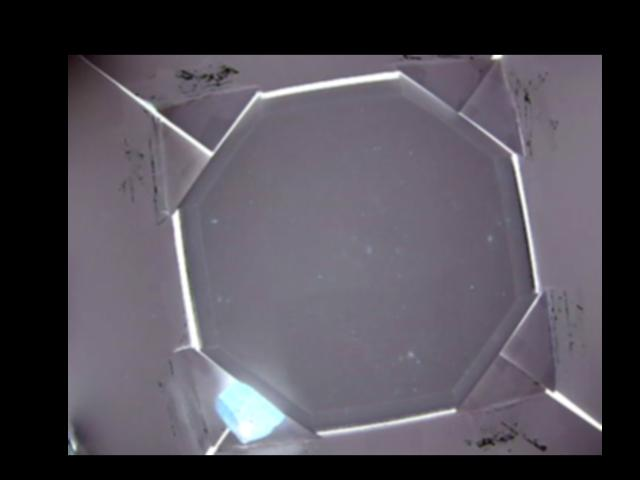Brisk: (216, 380, 281, 441)
